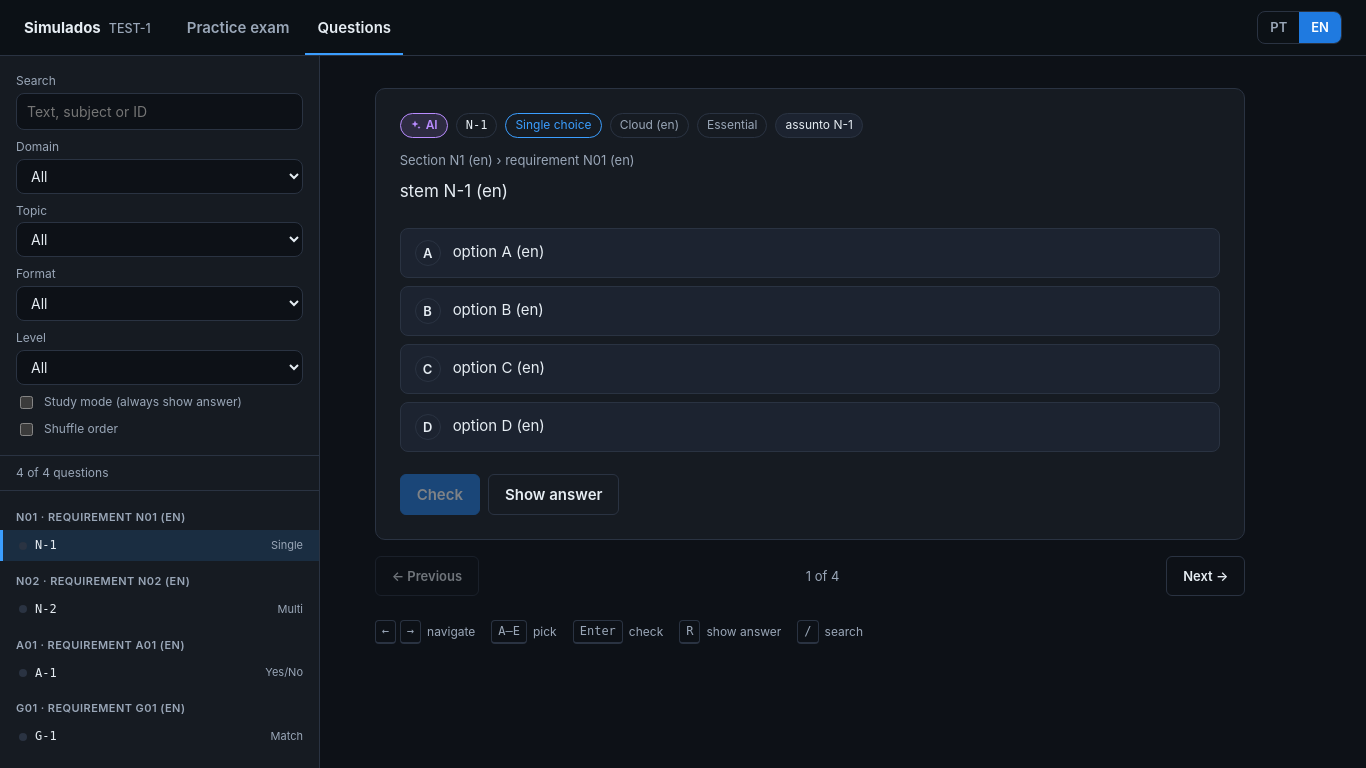
Test: BankPage › filters by format through the URL
The width and height of the screenshot is (1366, 768).
Select "Yes/No" in the dropdown labelled "Format" at (160, 304), box x1=16 y1=286 x2=303 y2=321
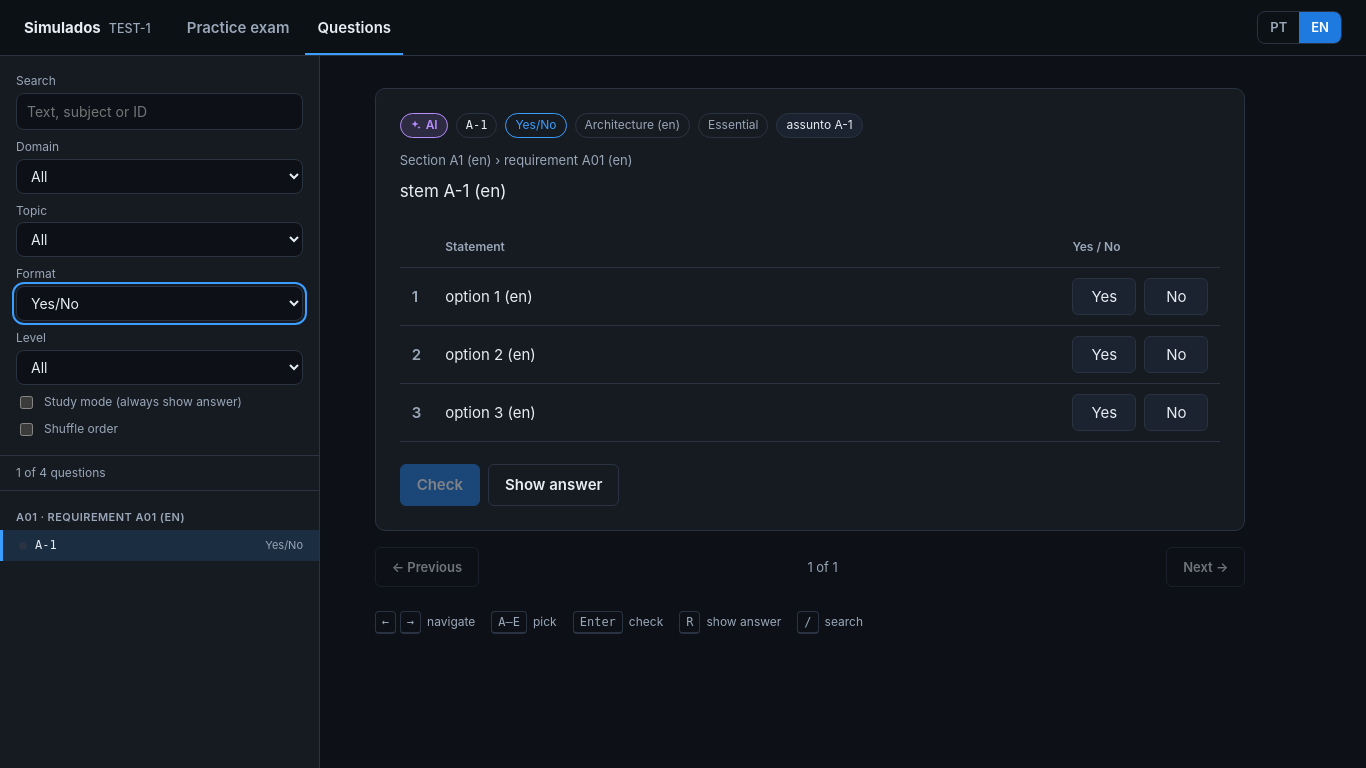
expect the text "1 of 4 questions" is shown: met, box x1=16 y1=464 x2=106 y2=482
expect the text "stem A-1 (en)" is shown: met, box x1=400 y1=181 x2=506 y2=201
